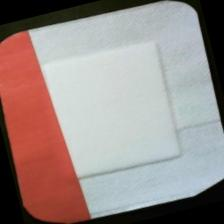Dressing: (1, 1, 224, 224)
Red_T: (1, 23, 97, 224)
